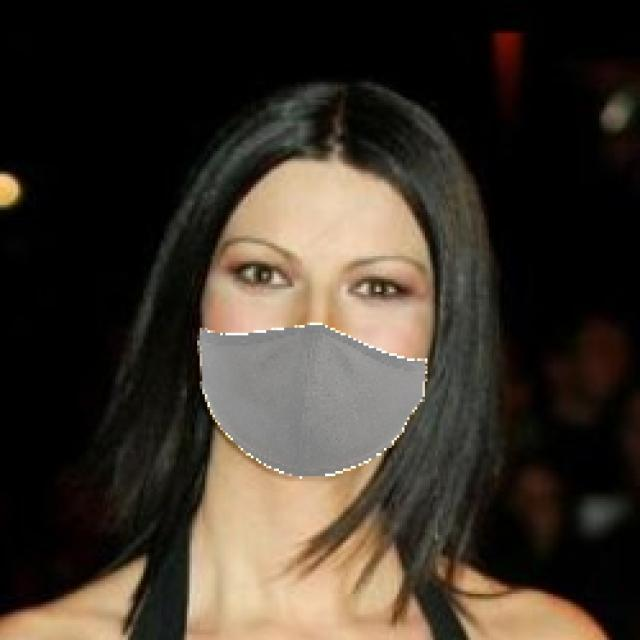cloth: (191, 149, 457, 478)
